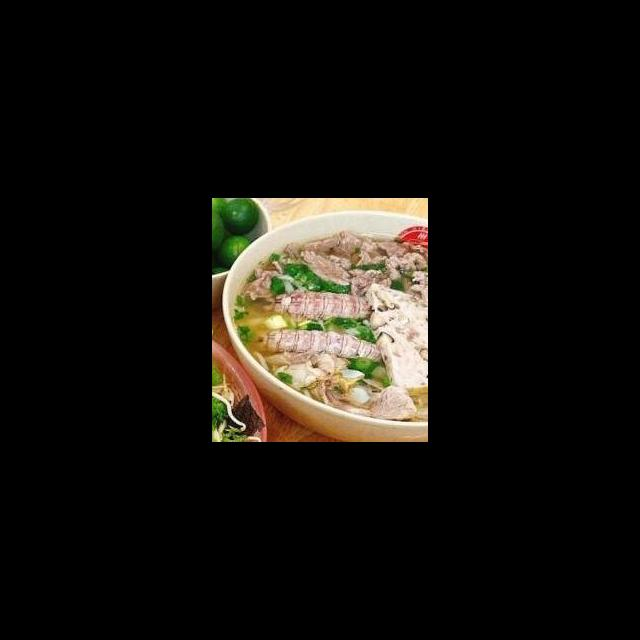thit heo: (346, 232, 403, 300), (375, 237, 428, 304), (295, 247, 361, 289), (242, 259, 290, 302)
tom tit: (246, 325, 388, 366), (259, 287, 383, 323)
